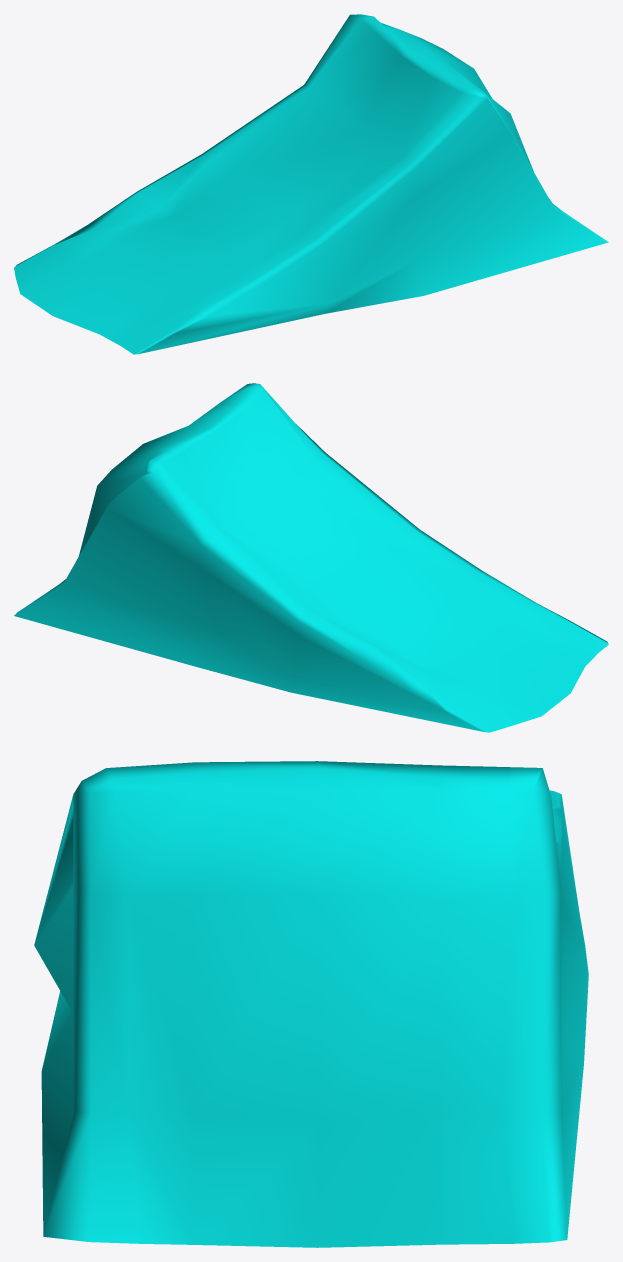
The model's file is Ramp01_mesh.fbx.
The picture shows the model from 3 angles, top to bottom: view 1: azimuth 30°, elevation 25°; view 2: azimuth 150°, elevation 25°; view 3: azimuth 270°, elevation 25°; orthographic projection. The views are drawn at different scales.
Parts seen in each view (by area): view 1: Ramp01_mesh; view 2: Ramp01_mesh; view 3: Ramp01_mesh.
Part boxes in pixels (x1=…): Ramp01_mesh: x1=14, y1=14, x2=608, y2=354; Ramp01_mesh: x1=14, y1=383, x2=608, y2=732; Ramp01_mesh: x1=34, y1=761, x2=588, y2=1247.
Size of the model in its own units: 11.61 by 4.16 by 5.68.
